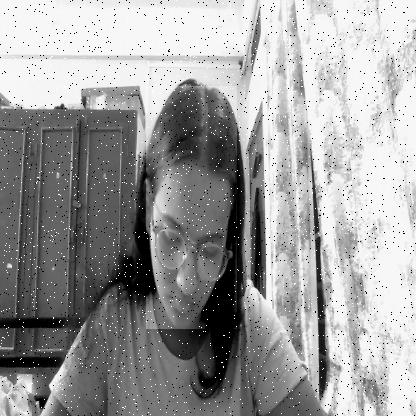Distracted: (146, 86, 237, 329)
